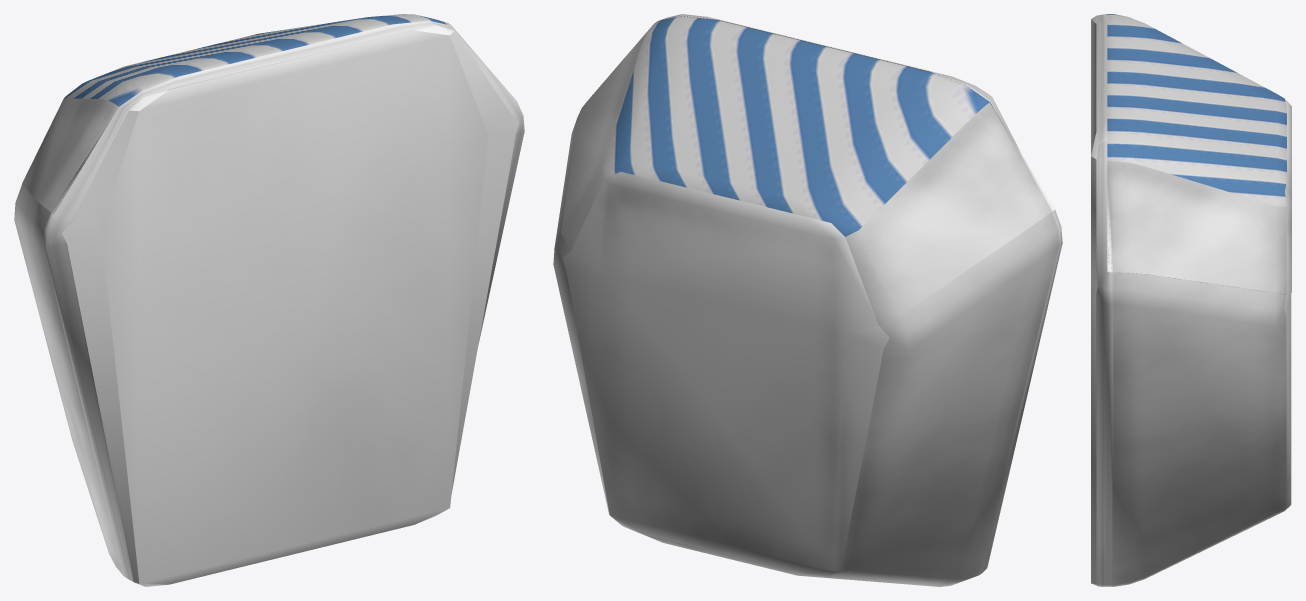
The model's file is JumpChute.FBX.
3 renders of one model, left to right at view 1: azimuth 30°, elevation 25°; view 2: azimuth 150°, elevation 25°; view 3: azimuth 270°, elevation 25°, orthographic. The views are drawn at different scales.
Parts seen in each view (by area): view 1: base, cap; view 2: base, cap; view 3: base, cap.
Part boxes in pixels (bbox=[...]): base: bbox=[14, 20, 524, 586]; cap: bbox=[22, 14, 451, 213]; base: bbox=[553, 14, 1062, 586]; cap: bbox=[561, 16, 1051, 333]; base: bbox=[1091, 14, 1291, 586]; cap: bbox=[1107, 14, 1291, 294].
Bounding box in the file's own units: 0.3079 × 0.3108 × 0.124.
